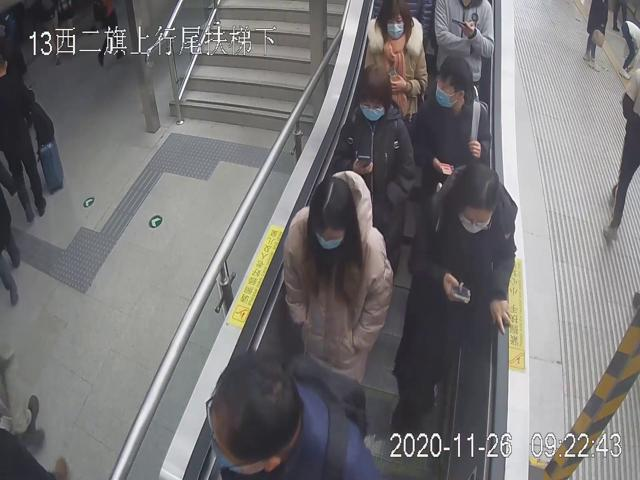person: (388, 159, 517, 443), (280, 165, 394, 377), (335, 59, 419, 262), (409, 55, 490, 200), (362, 0, 428, 120)
